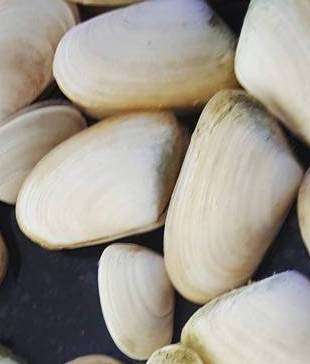tuatua: (165, 88, 301, 305), (48, 1, 239, 118), (16, 112, 175, 246), (182, 265, 310, 358), (100, 241, 176, 359), (1, 1, 69, 120), (1, 103, 86, 189)
